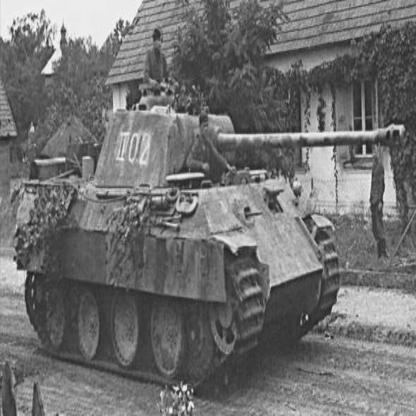Tank: (11, 74, 409, 397)
